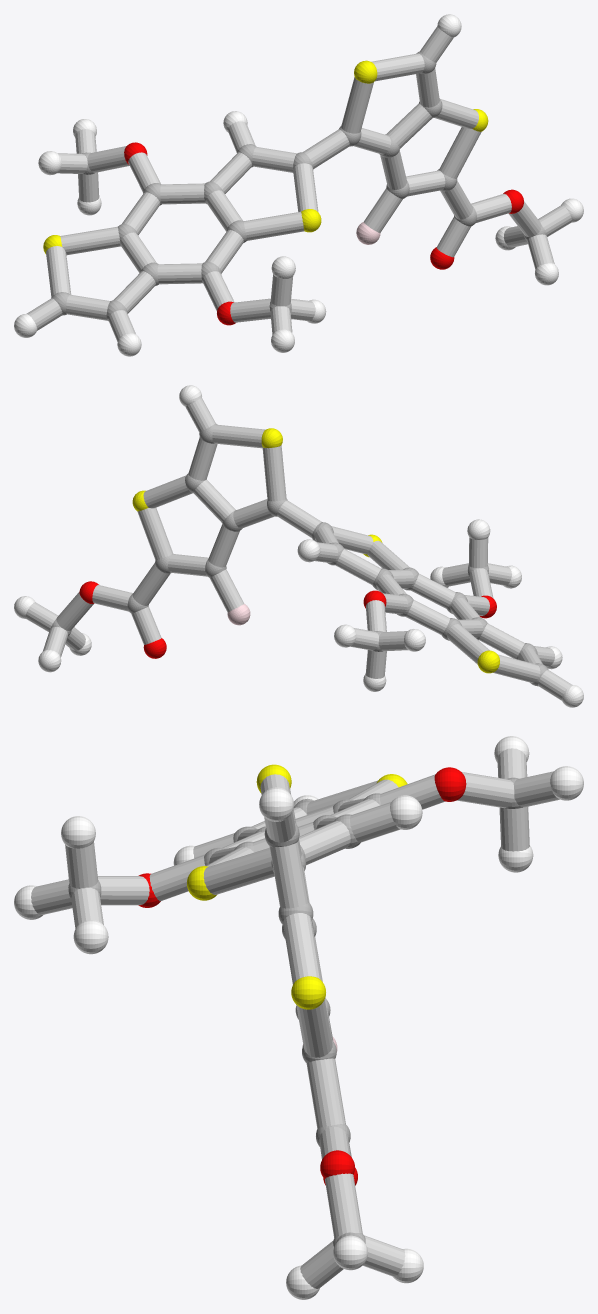
The model's file is color.glb.
3 views of the same model, one above another, from view 1: azimuth 30°, elevation 25°; view 2: azimuth 150°, elevation 25°; view 3: azimuth 270°, elevation 25° (orthographic). The views are drawn at different scales.
Parts seen in each view (by area): view 1: grp15205, grp8689, grp1, grp7241, grp13395; view 2: grp15205, grp8689, grp1, grp7241, grp13395; view 3: grp15205, grp8689, grp1, grp7241, grp13395.
Part boxes in pixels (x1,y1,x2,y2): grp15205: [26, 26, 571, 341]; grp8689: [14, 14, 583, 356]; grp1: [51, 51, 546, 321]; grp7241: [43, 60, 488, 253]; grp13395: [124, 142, 523, 325]; grp15205: [25, 398, 571, 700]; grp8689: [14, 385, 583, 707]; grp1: [50, 423, 548, 686]; grp7241: [132, 428, 499, 673]; grp13395: [79, 581, 496, 658]; grp15205: [31, 748, 559, 1288]; grp8689: [14, 736, 583, 1299]; grp1: [68, 777, 522, 1246]; grp7241: [187, 764, 407, 1009]; grp13395: [138, 767, 466, 1185].
Size of the model in its own units: 16.61 by 8.24 by 9.79.
